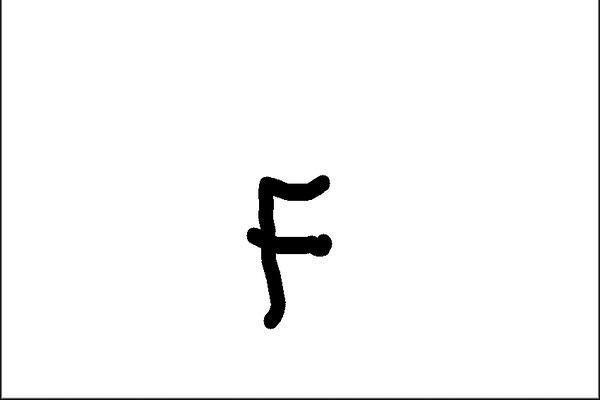F: (242, 171, 341, 332)
